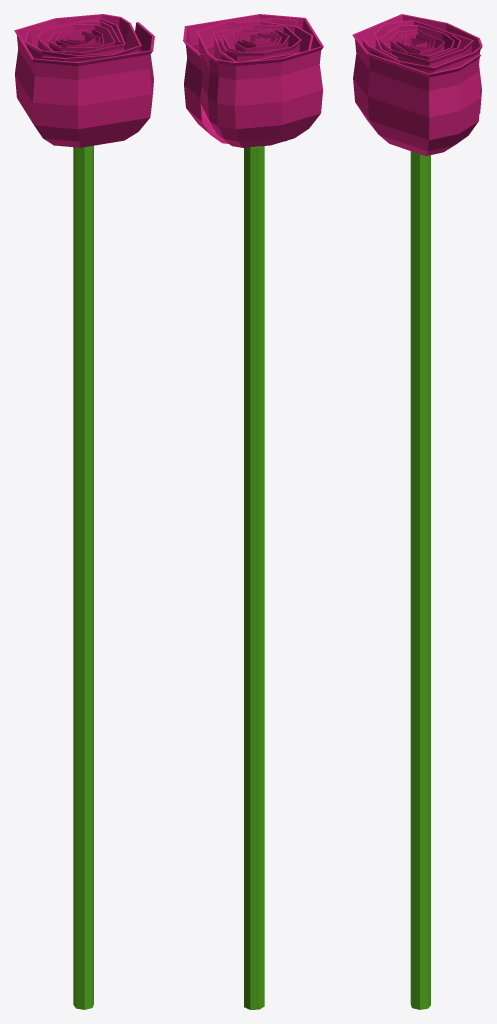
The model's file is rose_pink.dae.
3 renders of one model, left to right at view 1: azimuth 30°, elevation 25°; view 2: azimuth 210°, elevation 25°; view 3: azimuth 330°, elevation 25°, orthographic.
Visible parts, largest first — view 1: Simple_GP_Layer; view 2: Simple_GP_Layer; view 3: Simple_GP_Layer.
Part boxes in pixels (box(x1,y1,x2,y2)): Simple_GP_Layer: box(14, 14, 154, 1009); Simple_GP_Layer: box(183, 14, 323, 1009); Simple_GP_Layer: box(352, 14, 482, 1009).
Bounding box in the file's own units: 1.29 × 1.1 × 10.11.
